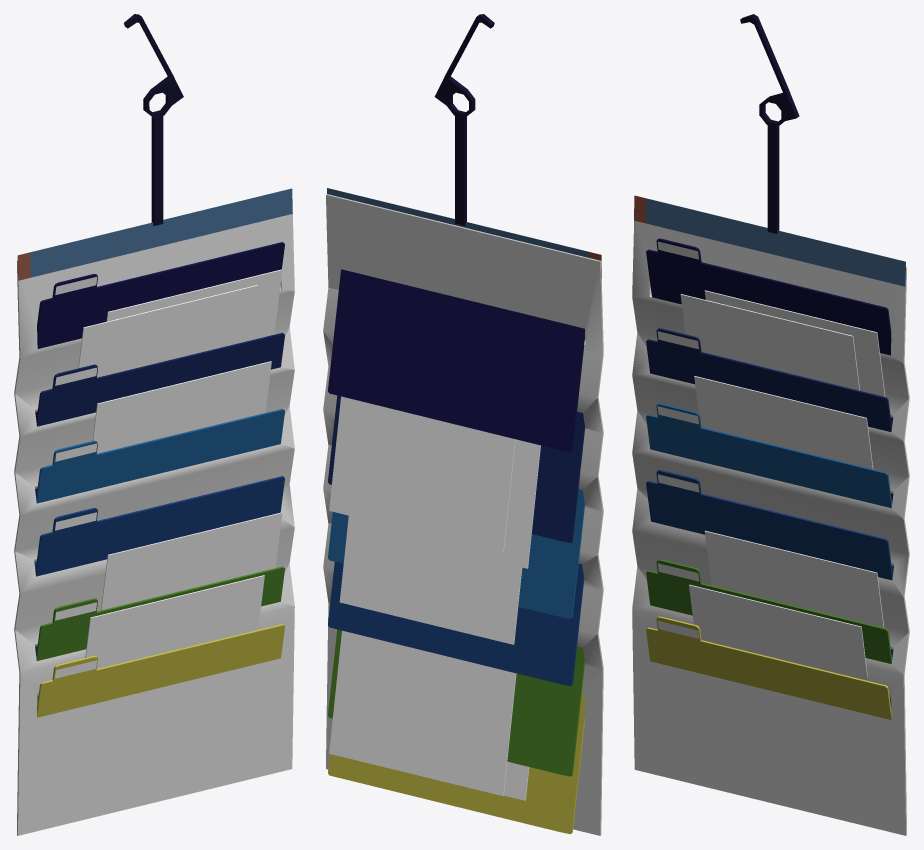
The model's file is LC_3178_filing_cabinett_b_LOD3.fbx.
3 views of the same model, side by side, from view 1: azimuth 30°, elevation 25°; view 2: azimuth 150°, elevation 25°; view 3: azimuth 330°, elevation 25° (orthographic).
Visible parts, largest first — view 1: LC_3178_fc_b_LOD3; view 2: LC_3178_fc_b_LOD3; view 3: LC_3178_fc_b_LOD3.
Boxes of the visible parts, <box> form: LC_3178_fc_b_LOD3: <box>14,14,294,835</box>; LC_3178_fc_b_LOD3: <box>323,14,603,835</box>; LC_3178_fc_b_LOD3: <box>632,14,909,835</box>.
Size of the model in its own units: 30.01 by 82.69 by 5.18.
1 material, 1 textured.
